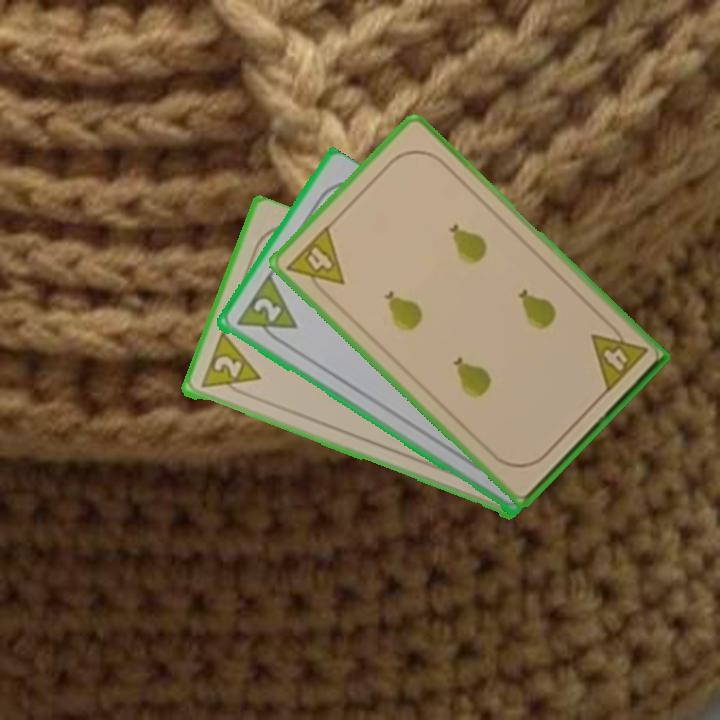2p: (232, 273, 300, 349), (196, 331, 263, 400)
4p: (283, 221, 348, 302), (587, 317, 650, 395)
